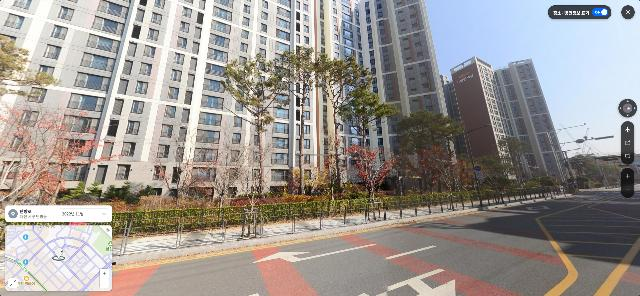other: (1, 101, 121, 208), (220, 52, 292, 193), (269, 46, 333, 194), (312, 52, 372, 193), (335, 81, 402, 191), (394, 109, 467, 194), (223, 135, 281, 236), (148, 122, 209, 207), (342, 140, 398, 221), (409, 145, 464, 210), (1, 35, 52, 105), (204, 138, 246, 205), (317, 124, 352, 200), (463, 154, 509, 198), (497, 137, 533, 188)
